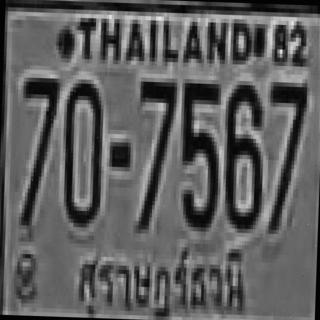N00: (60, 79, 102, 223)
N05: (178, 78, 220, 228)
N06: (222, 80, 263, 229)
N07: (133, 77, 175, 230), (17, 73, 59, 226), (264, 78, 306, 230)
P67: (68, 235, 253, 320)
